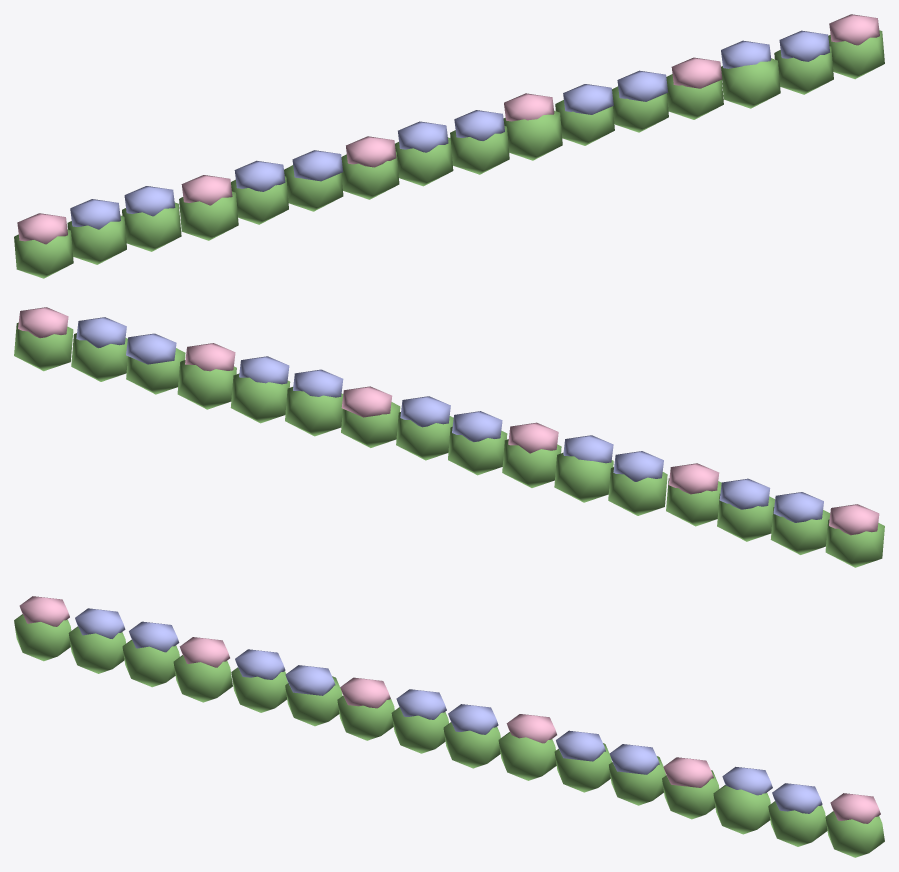
Rendered from lavender_row.fbx.
3 views of the same model, one above another, from view 1: azimuth 30°, elevation 25°; view 2: azimuth 150°, elevation 25°; view 3: azimuth 330°, elevation 25° (orthographic).
Visible parts, largest first — view 1: Visual; view 2: Visual; view 3: Visual.
Boxes of the visible parts, x1=… form: Visual: x1=14, y1=14, x2=884, y2=278; Visual: x1=14, y1=307, x2=884, y2=567; Visual: x1=14, y1=596, x2=884, y2=857.
Size of the model in its own units: 1200 by 83 by 71.05.
